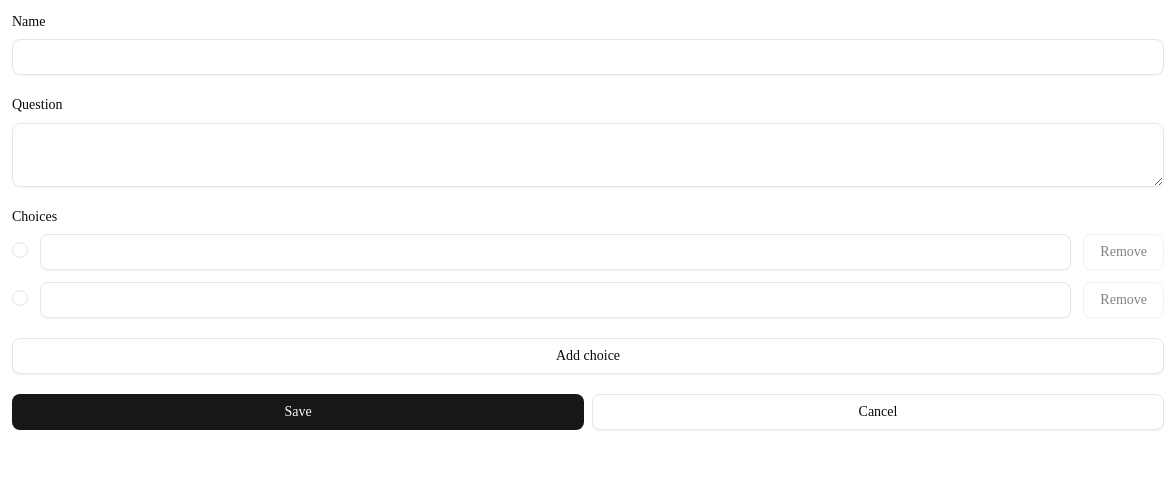
Scenario: McqForm › save is blocked when the name is blank
Type "What is 2+2?" into the text box labelled "Question" at (588, 154), box x1=12 y1=122 x2=1164 y2=186
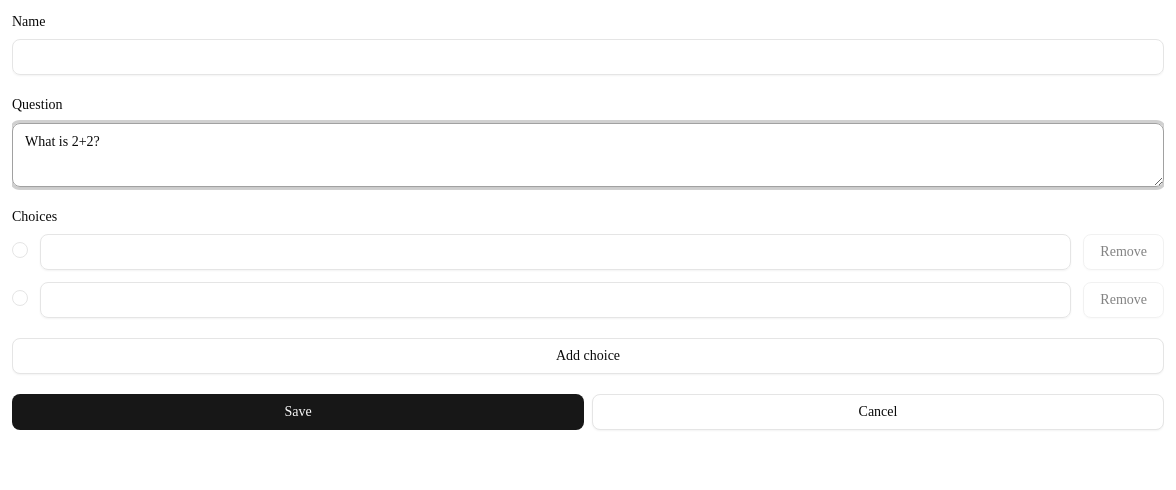
Type "3" into the field named "choice 1" at (556, 252), box x1=40 y1=234 x2=1071 y2=270
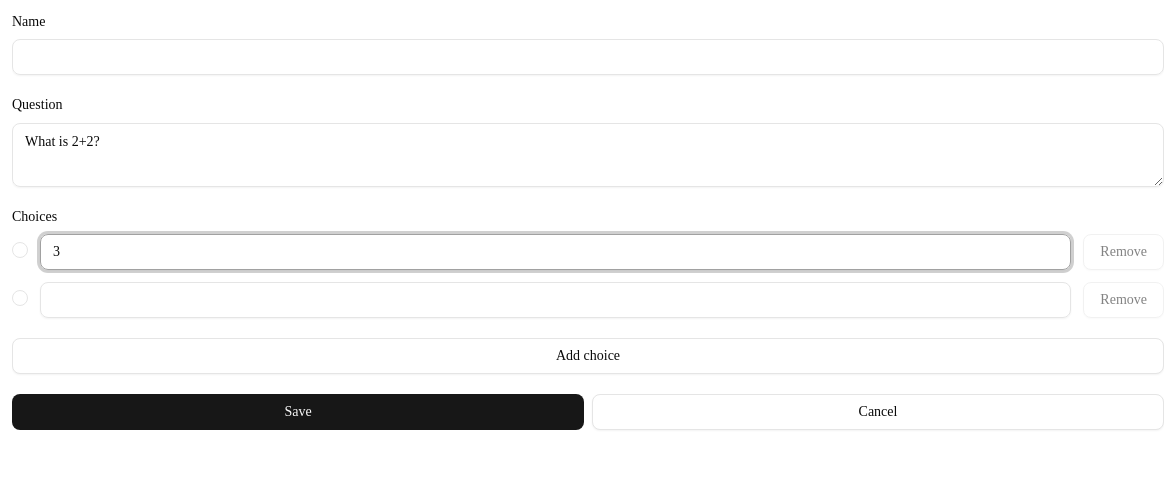
Type "4" into the field named "choice 2" at (556, 300), box x1=40 y1=282 x2=1071 y2=318
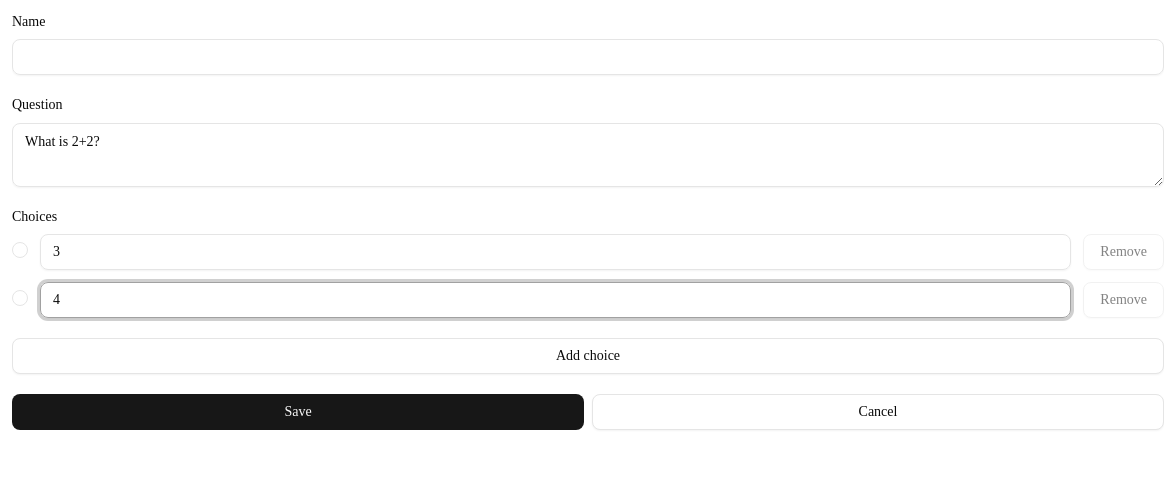
Click the radio button named "mark choice 2 as correct" at (20, 298), box x1=12 y1=290 x2=28 y2=306
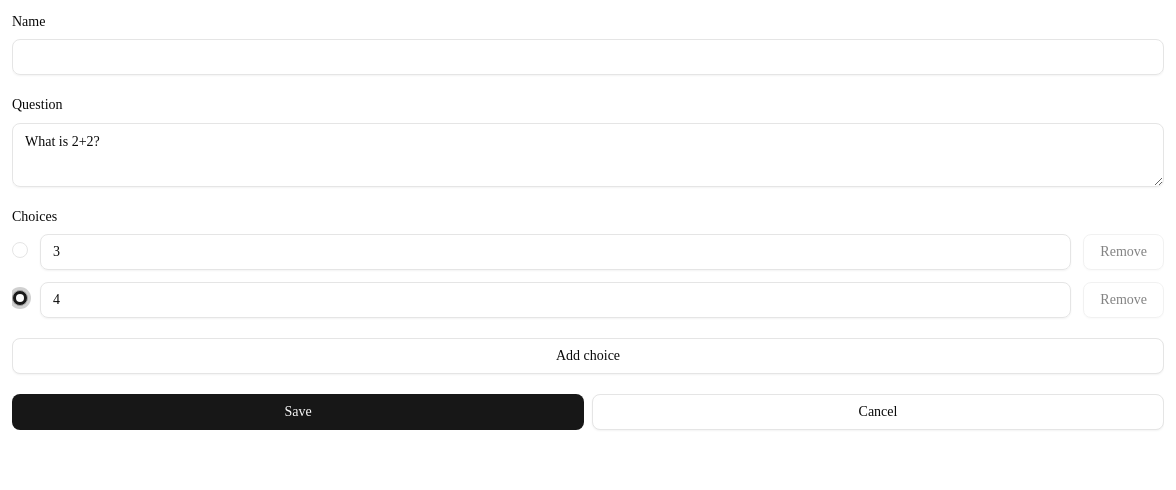
Click the button "Save" at (298, 412), box x1=12 y1=394 x2=584 y2=430
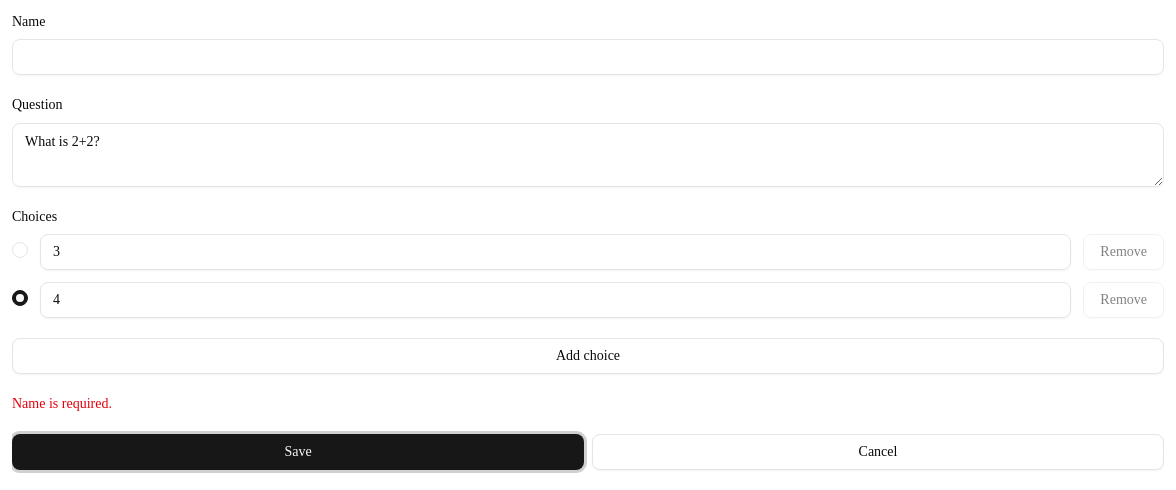
Expected: the message shows "Name is required", x1=12 y1=396 x2=112 y2=411
